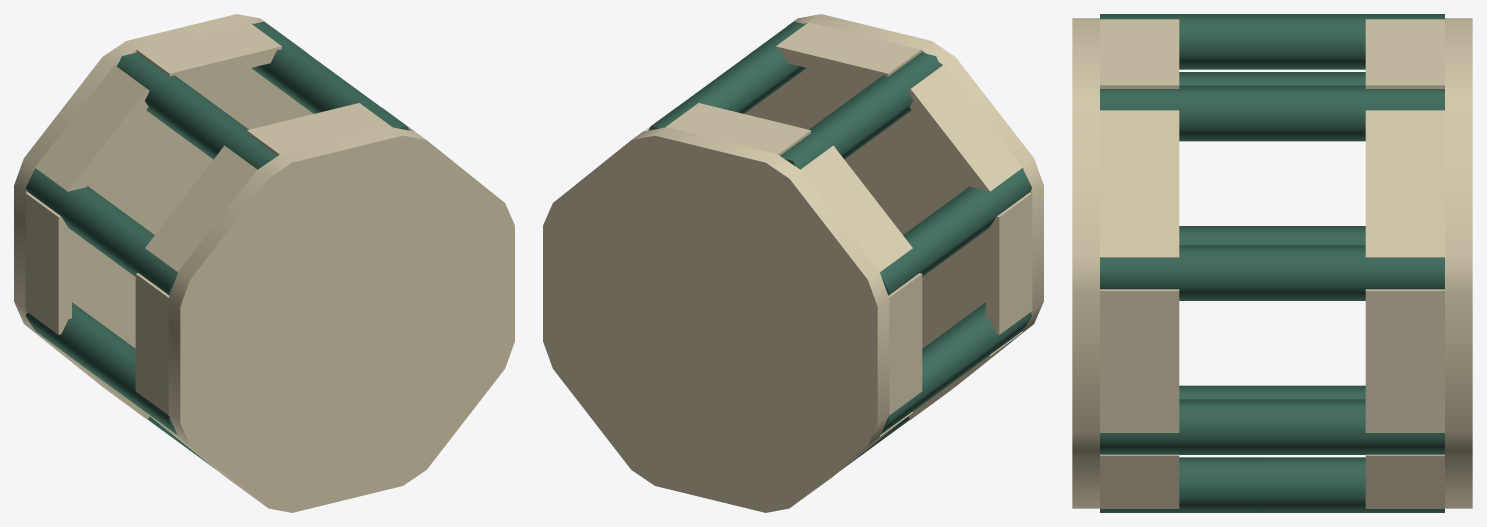
Rendered from h12_housing.obj.
The picture shows the model from 3 angles, left to right: view 1: azimuth 30°, elevation 25°; view 2: azimuth 150°, elevation 25°; view 3: azimuth 270°, elevation 25°; orthographic projection. The views are drawn at different scales.
Parts seen in each view (by area): view 1: h12_housing; view 2: h12_housing; view 3: h12_housing.
Boxes of the visible parts, x1=… form: h12_housing: x1=14, y1=14, x2=514, y2=512; h12_housing: x1=543, y1=14, x2=1043, y2=512; h12_housing: x1=1072, y1=14, x2=1472, y2=512.
Size of the model in its own units: 3.17 by 3.17 by 2.73.
